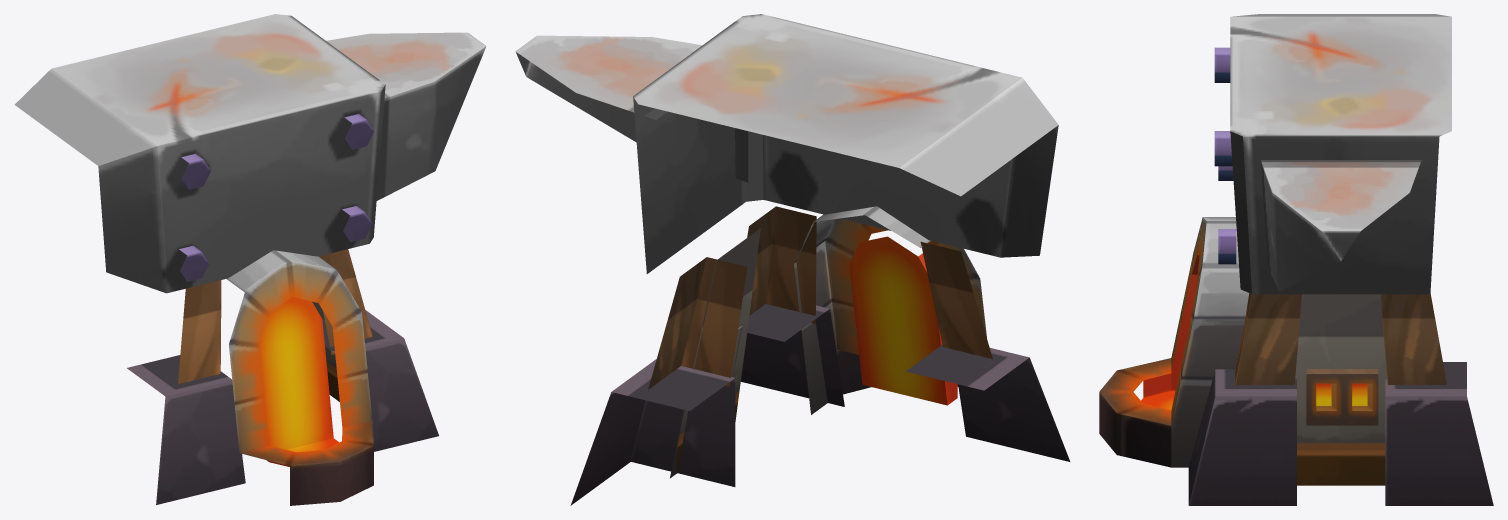
File: B_Blacksmith01.fbx
3 views of the same model, side by side, from view 1: azimuth 30°, elevation 25°; view 2: azimuth 150°, elevation 25°; view 3: azimuth 270°, elevation 25° (orthographic). The views are drawn at different scales.
Visible parts, largest first — view 1: B_Blacksmith01_01; view 2: B_Blacksmith01_01; view 3: B_Blacksmith01_01.
Boxes of the visible parts, x1,y1,x2,y2 form: B_Blacksmith01_01: (14,14,486,505); B_Blacksmith01_01: (515,14,1070,505); B_Blacksmith01_01: (1099,14,1493,505).
Size of the model in its own units: 4.14 by 3.21 by 3.23.
1 material, 1 textured.
